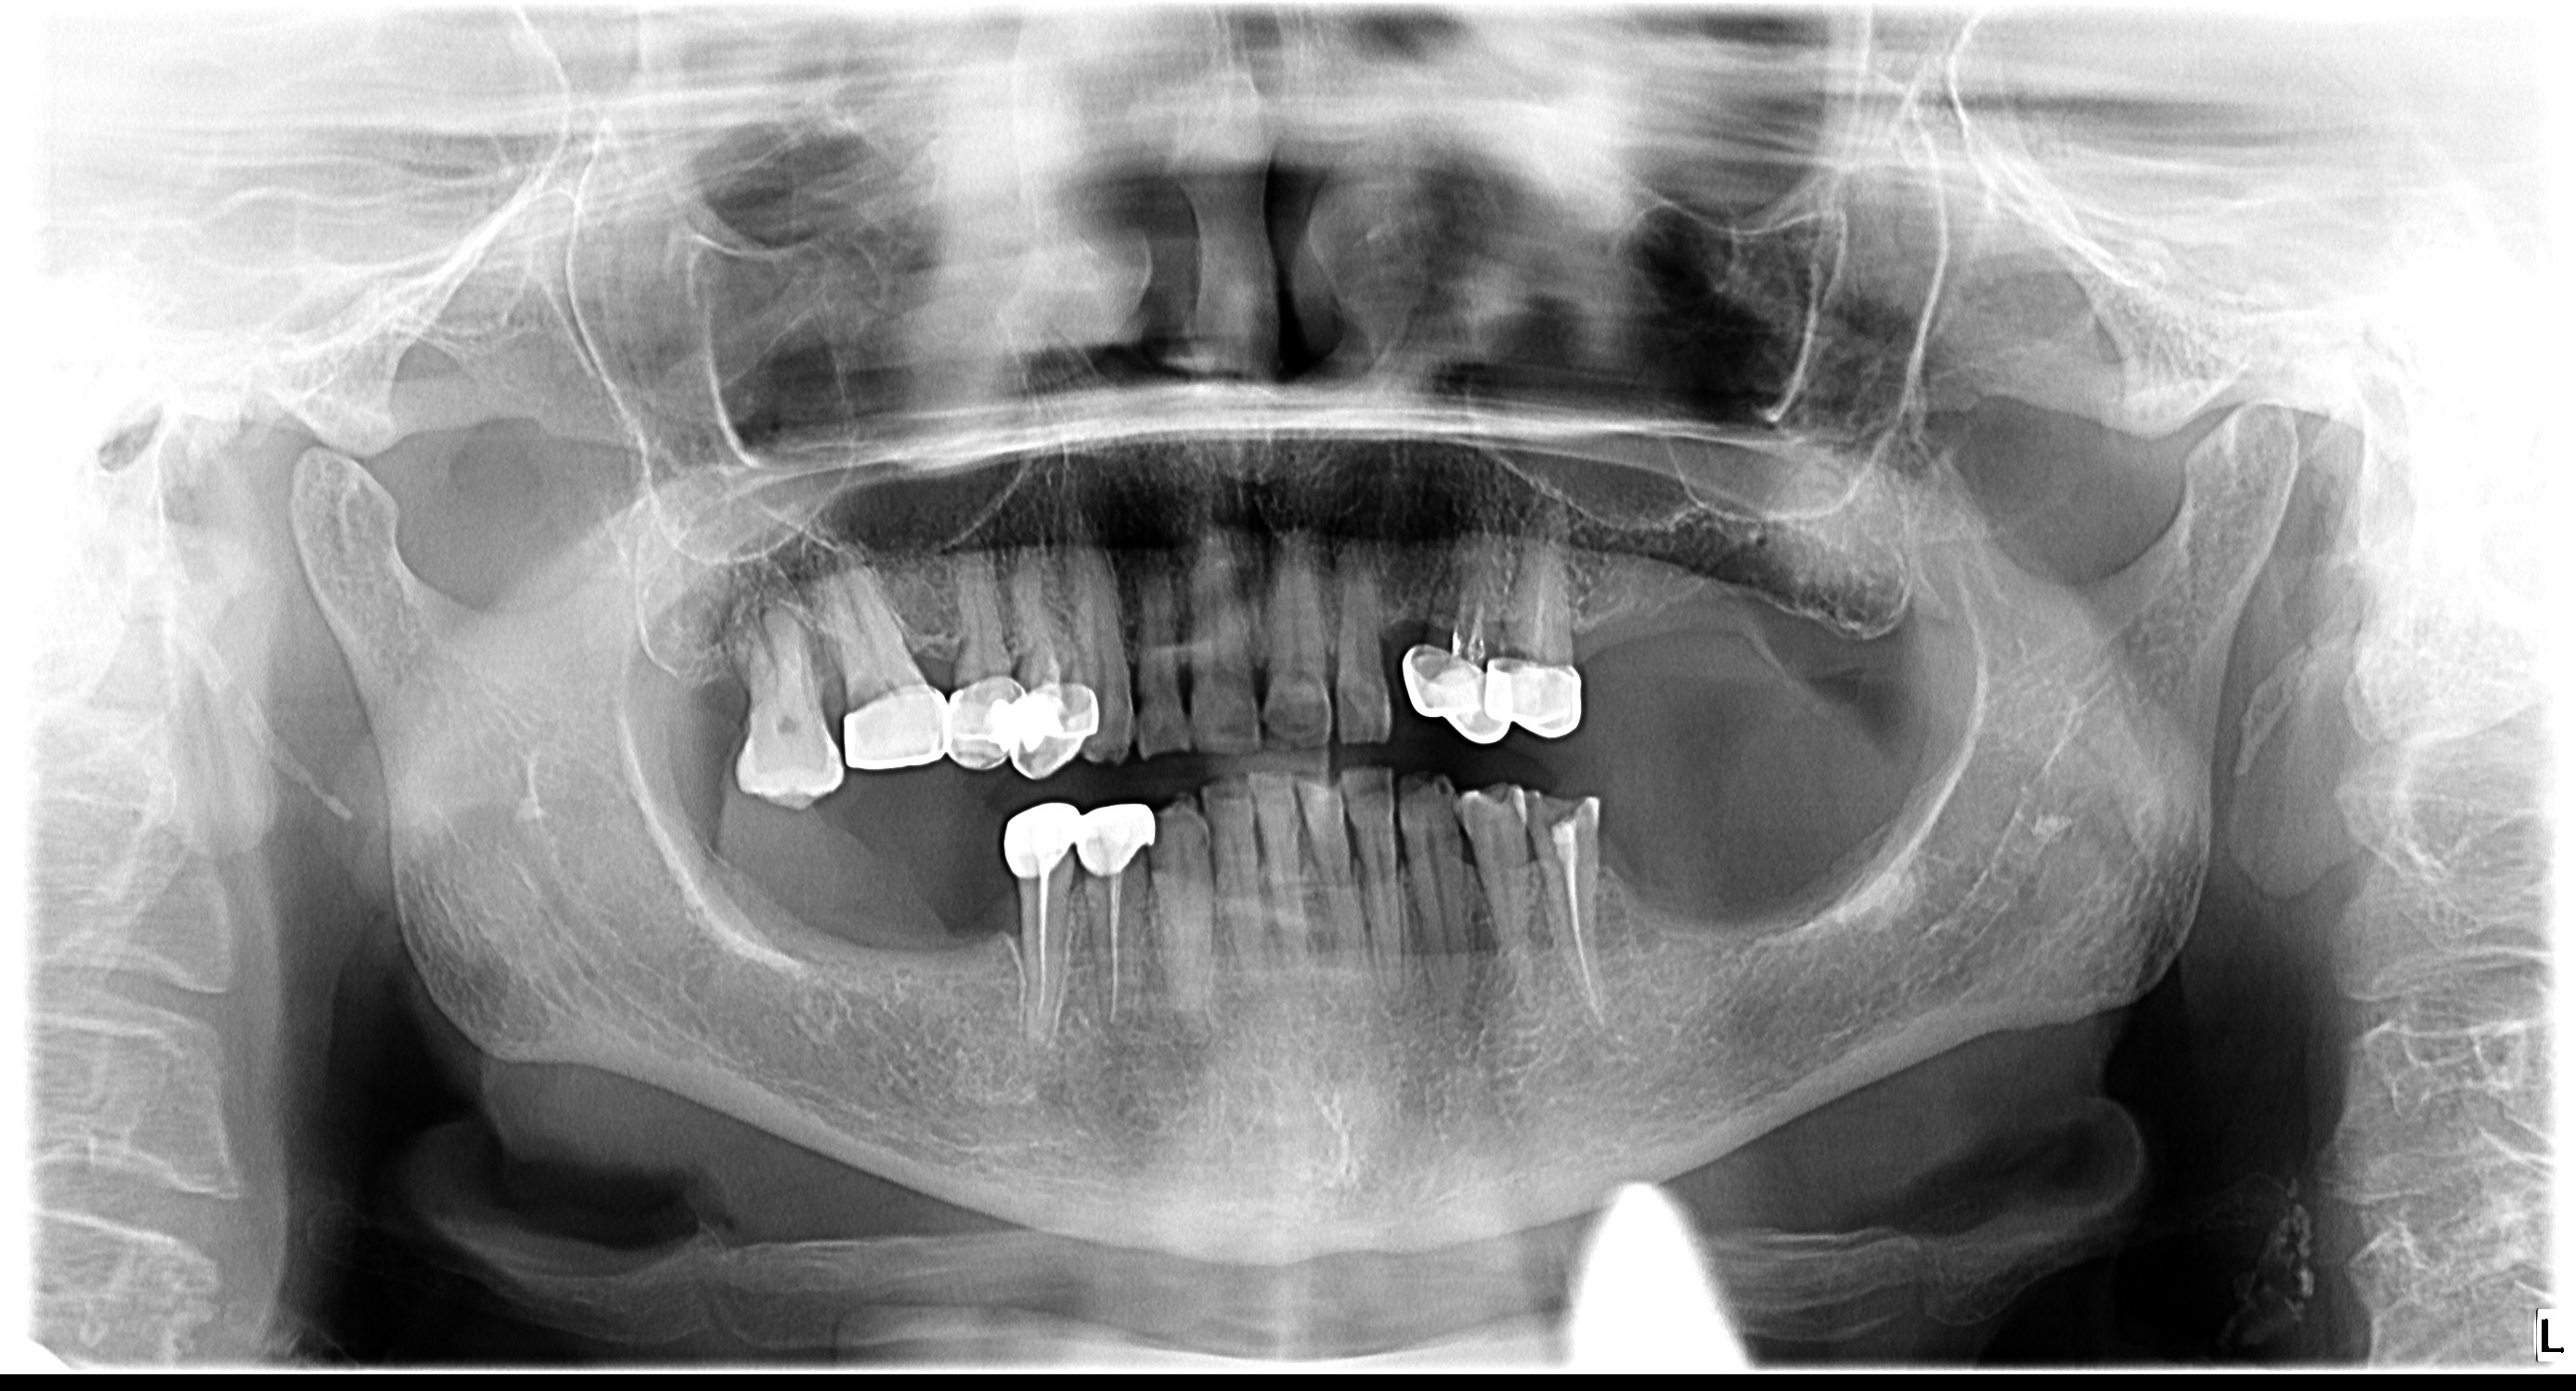BON: (794, 612, 849, 702), (976, 920, 1030, 982), (1376, 606, 1433, 665)
CAR: (835, 678, 1104, 778), (1405, 646, 1585, 740), (981, 800, 1157, 875)
END: (1546, 798, 1594, 1021), (1027, 875, 1059, 1040), (1097, 874, 1130, 1030), (1446, 584, 1484, 658)
OBT: (822, 673, 895, 714), (1133, 684, 1150, 721)
